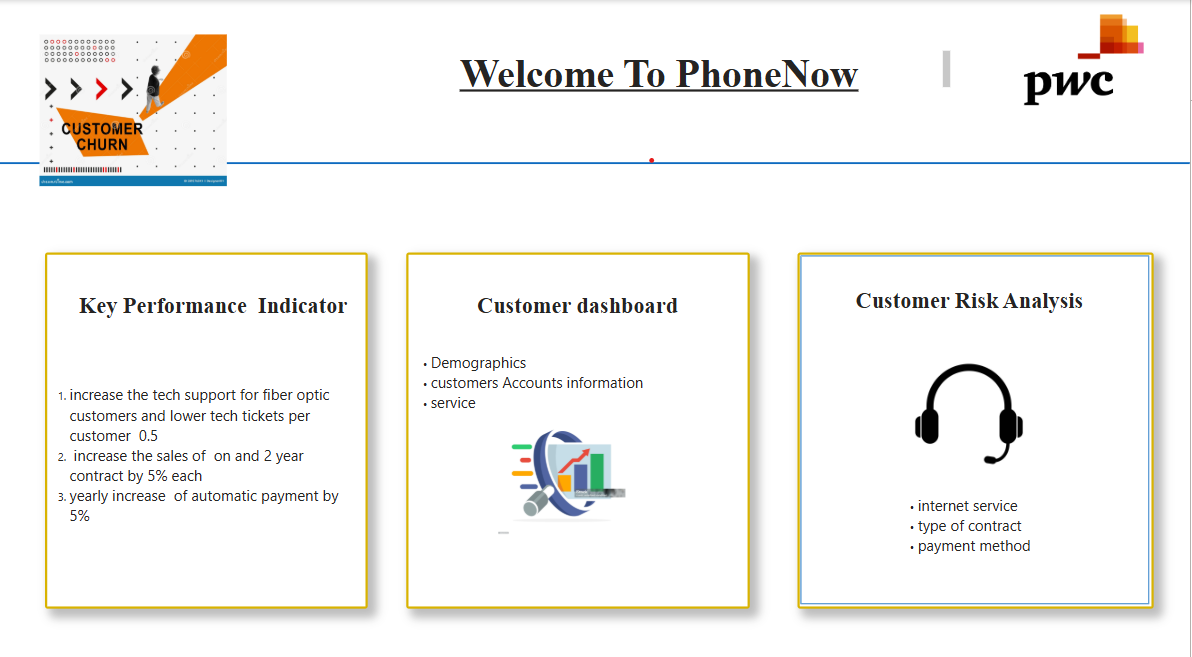

The page's visual inventory and layout, read from the dashboard file:
{"tool":"powerbi","page":{"name":"Page 1","canvas":[1280,720],"ordinal":0},"visuals":[{"type":"textbox","box":[489.5,49.8,537.9,53.8],"z":0},{"type":"textbox","box":[48.4,271.7,347,383.3],"z":1000},{"type":"shape","box":[0,137.2,1280.3,76.7],"z":2000},{"type":"textbox","box":[437.1,271.7,369.8,383.3],"z":3000},{"type":"image","box":[476.1,434.4,256.9,146.6],"z":4000},{"type":"shape","box":[858,271.7,383.3,383.3],"z":5000},{"type":"textbox","box":[868.8,305.3,348.3,40.3],"z":6000},{"type":"textbox","box":[964.2,527.2,172.1,106.2],"z":7000},{"type":"image","box":[948.1,369.8,188.3,157.3],"z":8000},{"type":"image","box":[1062.4,10.8,207.1,107.6],"z":9000},{"type":"image","box":[37.7,28.2,211.1,180.2],"z":10000}]}

Visuals, with their boxes in screenshot pixels (x1, y1, x2, y2), scaled from the page's 1280x720 canvas onto the 1192x657 screenshot:
textbox: <box>456,45,957,95</box>
textbox: <box>45,248,368,598</box>
shape: <box>0,125,1191,195</box>
textbox: <box>407,248,751,598</box>
image: <box>443,396,683,530</box>
shape: <box>799,248,1156,598</box>
textbox: <box>809,279,1133,315</box>
textbox: <box>898,481,1058,578</box>
image: <box>883,337,1058,481</box>
image: <box>989,10,1182,108</box>
image: <box>35,26,232,190</box>
